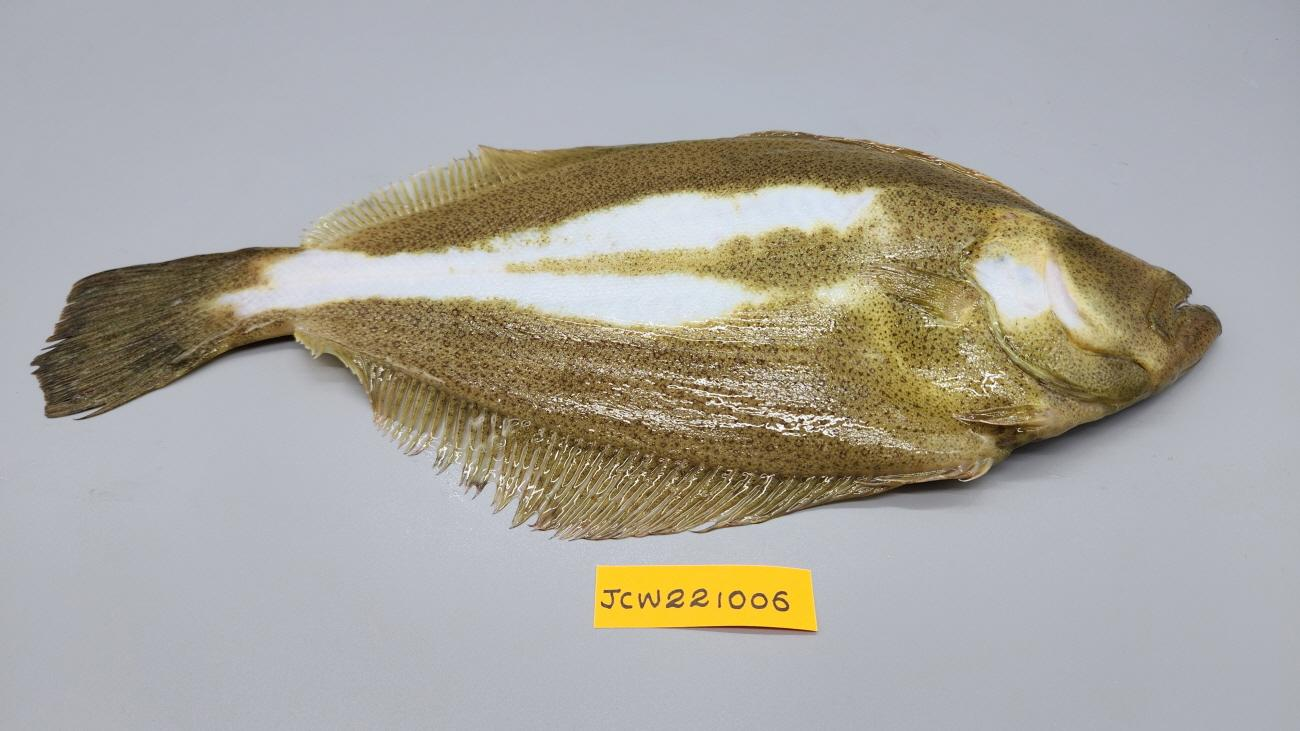POOUN: (30, 130, 1224, 541)
